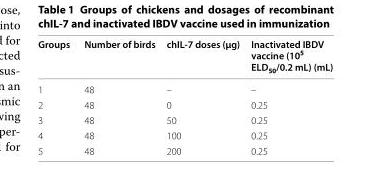table: (37, 37, 332, 156)
table column: (244, 37, 332, 156), (76, 37, 160, 156), (160, 37, 244, 156), (37, 37, 76, 156)
table column header: (37, 37, 332, 78)
table row: (37, 37, 332, 78), (37, 78, 332, 96), (37, 96, 332, 112), (37, 112, 332, 127), (37, 127, 332, 142), (37, 142, 332, 156)
